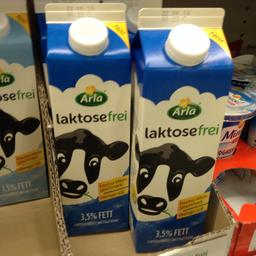milk: (134, 6, 232, 255), (42, 2, 130, 236)
